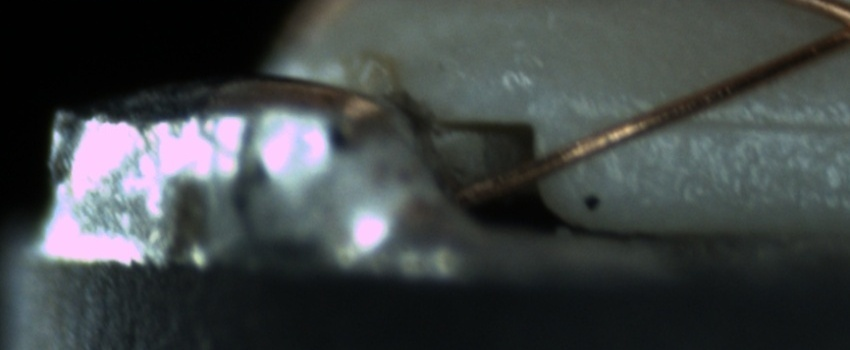CL: (809, 5, 849, 52)
DL: (571, 90, 843, 152)
